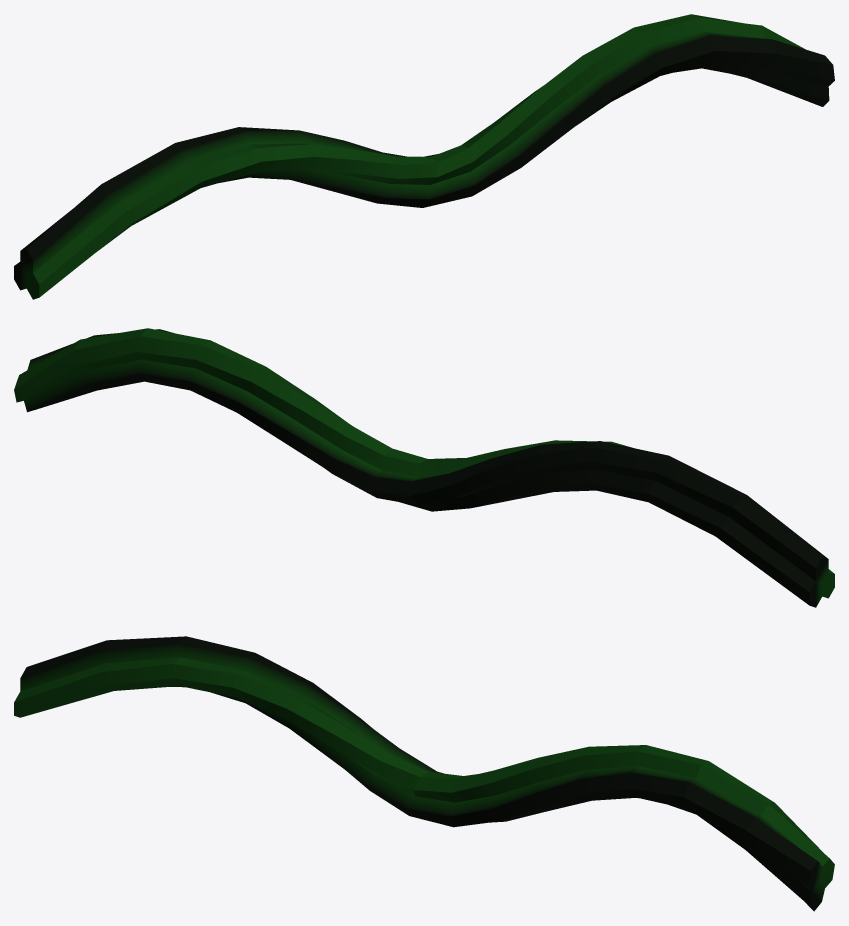
Rendered from vine_back.fbx.
3 views of the same model, one above another, from view 1: azimuth 30°, elevation 25°; view 2: azimuth 150°, elevation 25°; view 3: azimuth 330°, elevation 25° (orthographic).
Visible parts, largest first — view 1: pCylinder6; view 2: pCylinder6; view 3: pCylinder6.
Boxes of the visible parts, x1=… form: pCylinder6: x1=14, y1=14, x2=834, y2=299; pCylinder6: x1=14, y1=328, x2=834, y2=607; pCylinder6: x1=14, y1=636, x2=834, y2=911.
Size of the model in its own units: 201 by 28.14 by 13.43.
